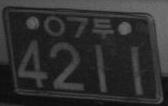0: (43, 14, 66, 37)
1: (122, 46, 150, 94), (87, 44, 114, 92)
2: (49, 40, 83, 91)
4: (18, 39, 47, 87)
7: (66, 14, 88, 38)
두: (91, 17, 113, 39)
